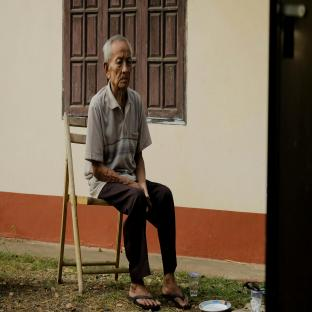Human: (85, 35, 190, 311)
